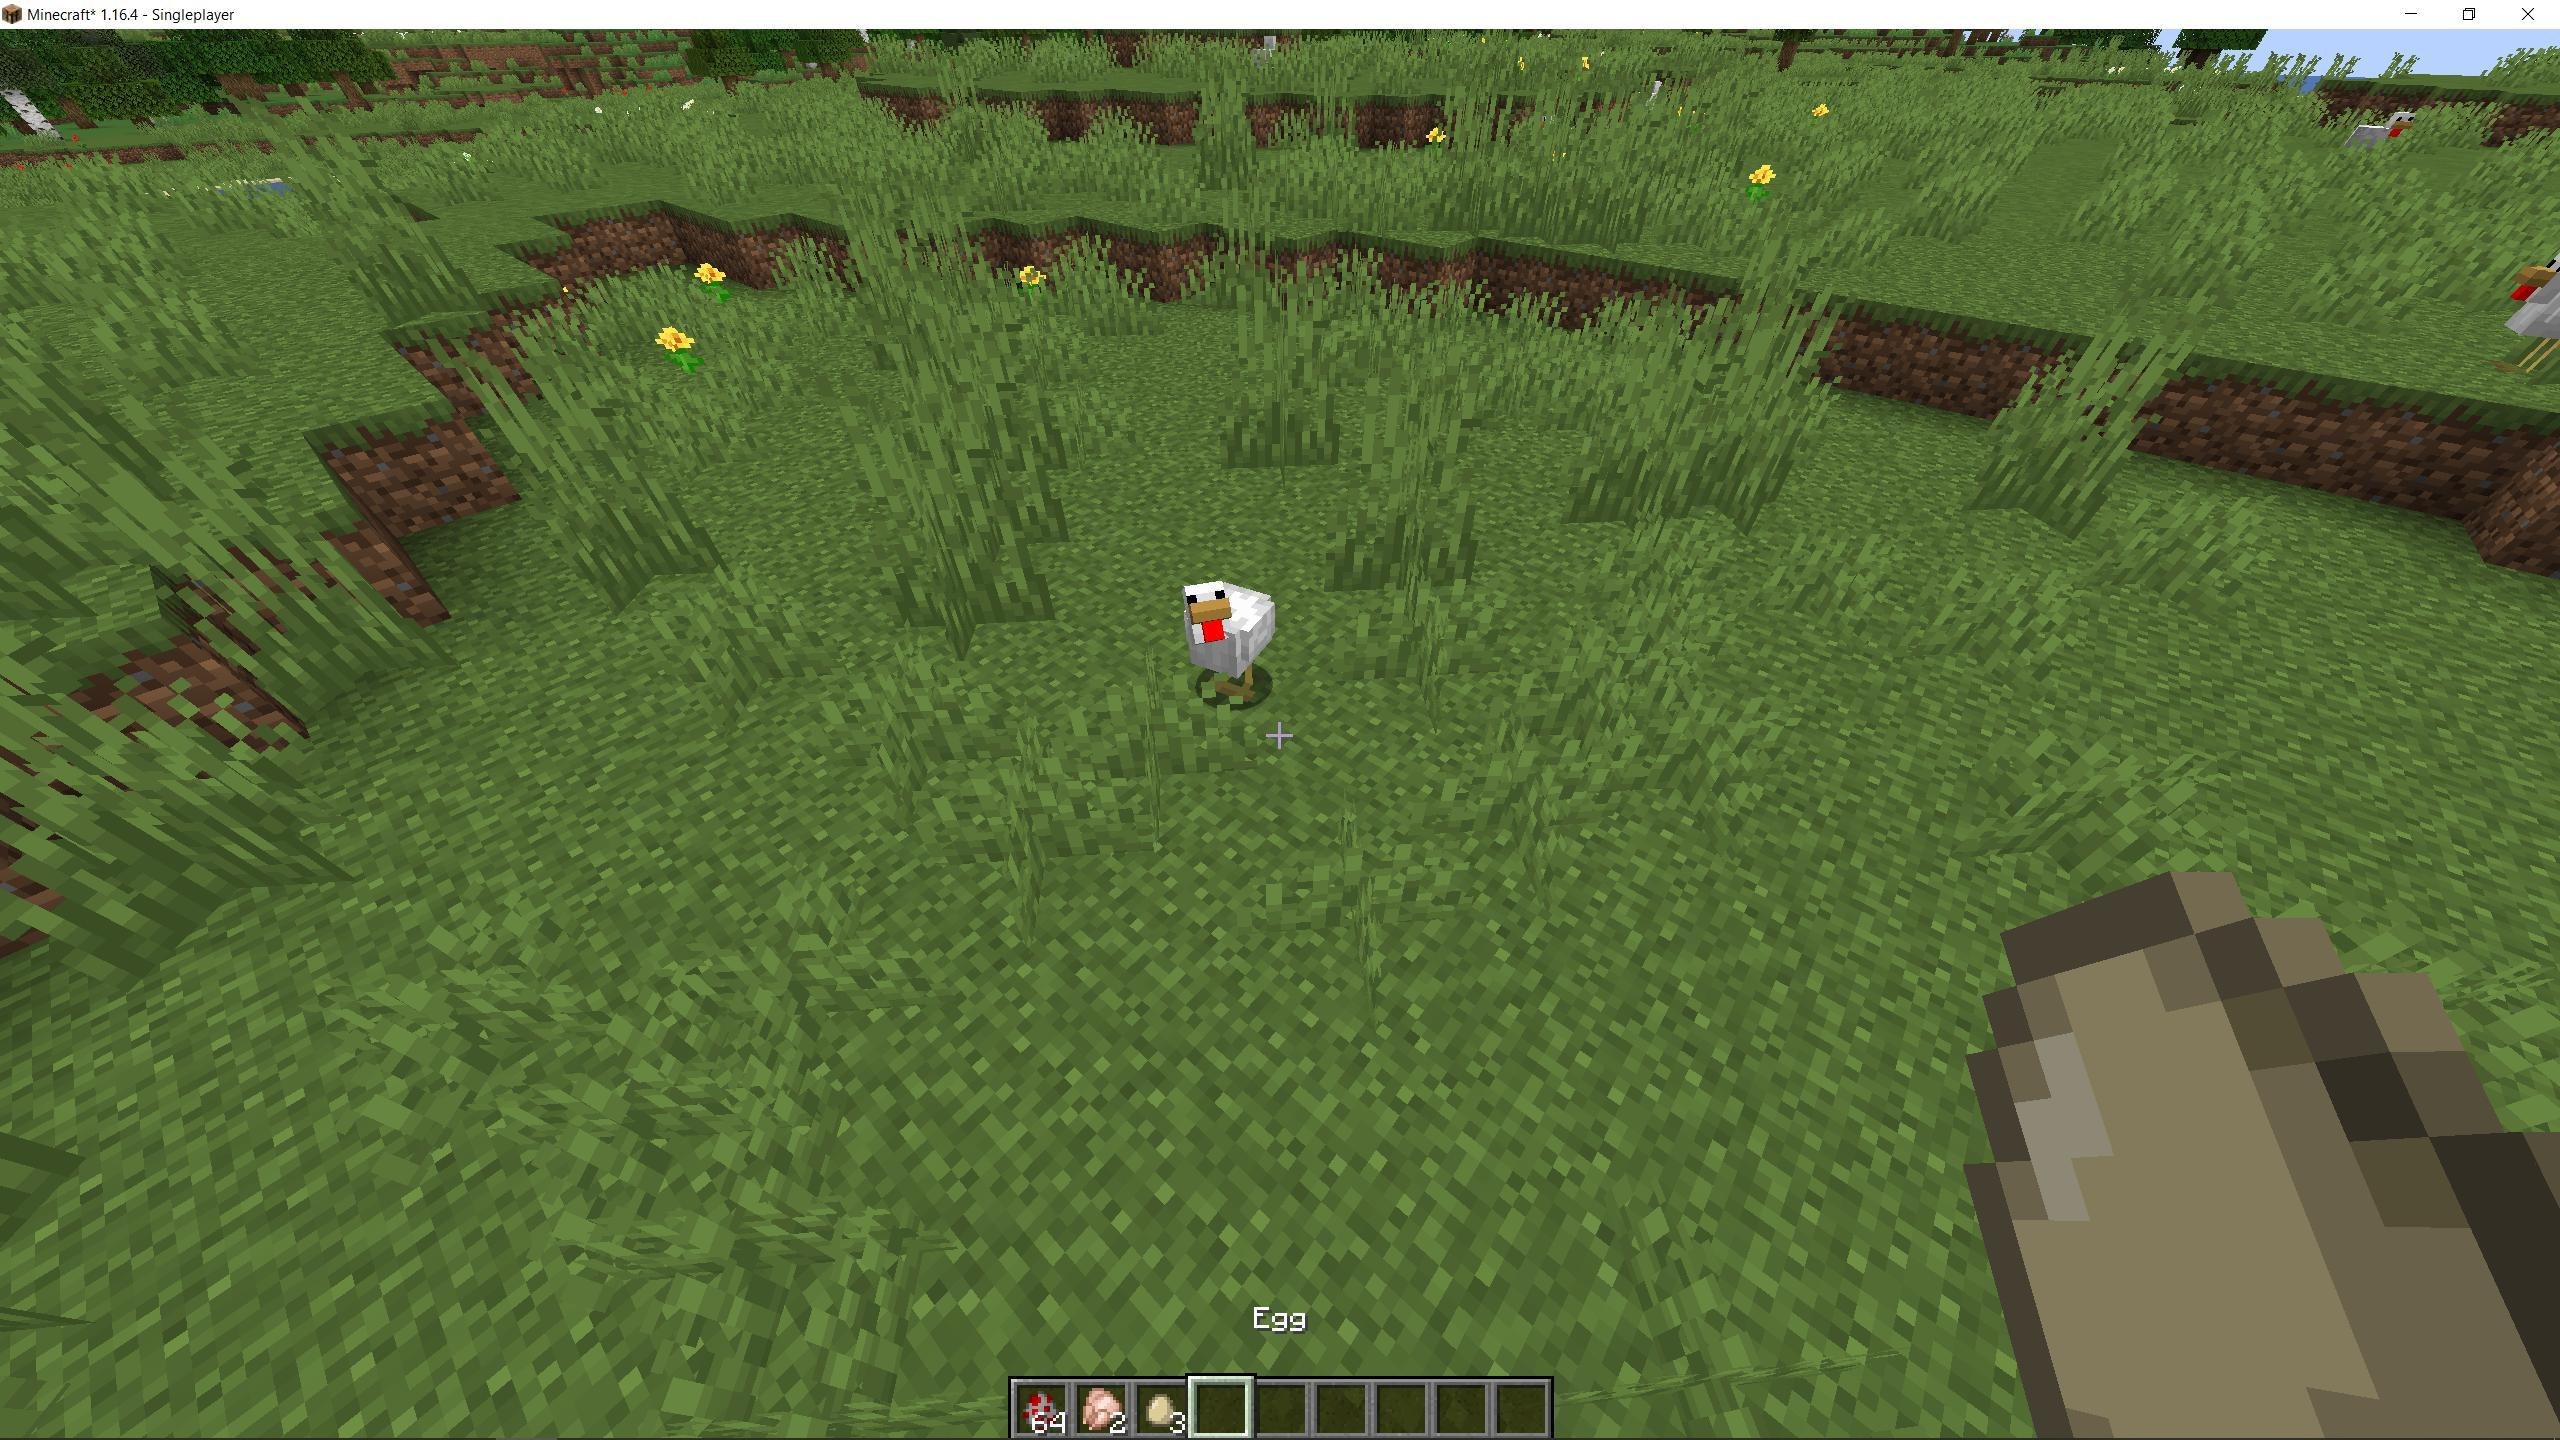chicken: (1183, 578, 1275, 707), (2507, 237, 2558, 396), (2354, 109, 2416, 174)
